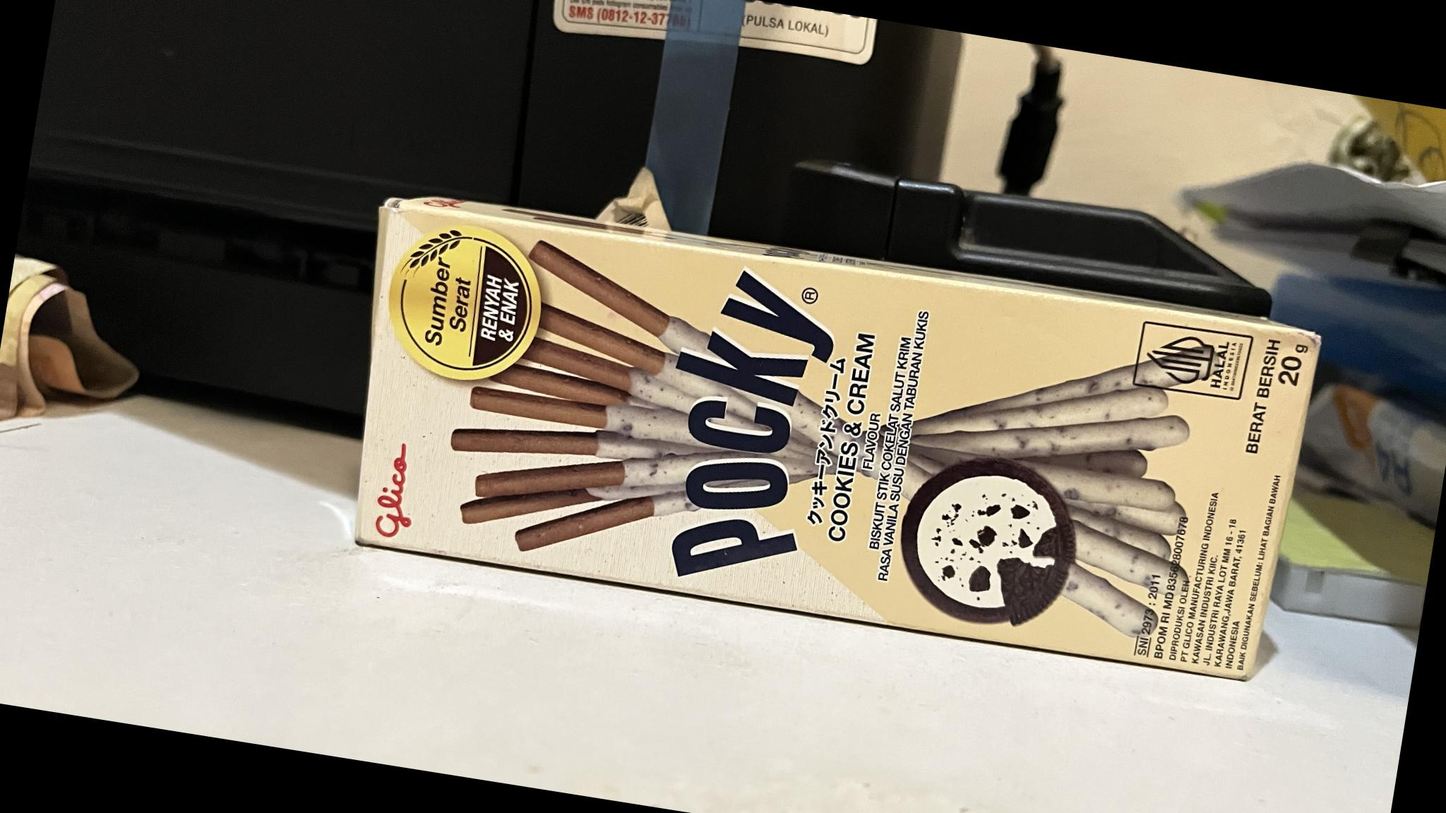Kertas: (356, 198, 1320, 682)
